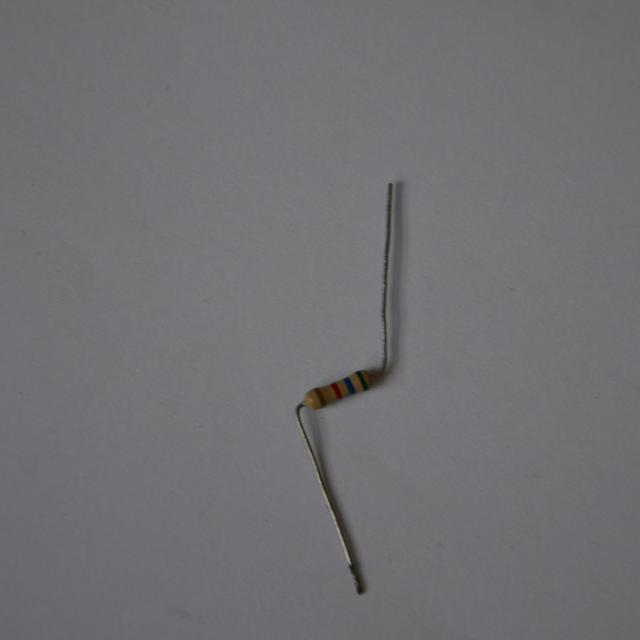blue: (344, 378, 355, 394)
gold: (315, 388, 325, 405)
green: (356, 371, 367, 389)
red: (331, 382, 342, 398)
resistor: (298, 363, 381, 410)
